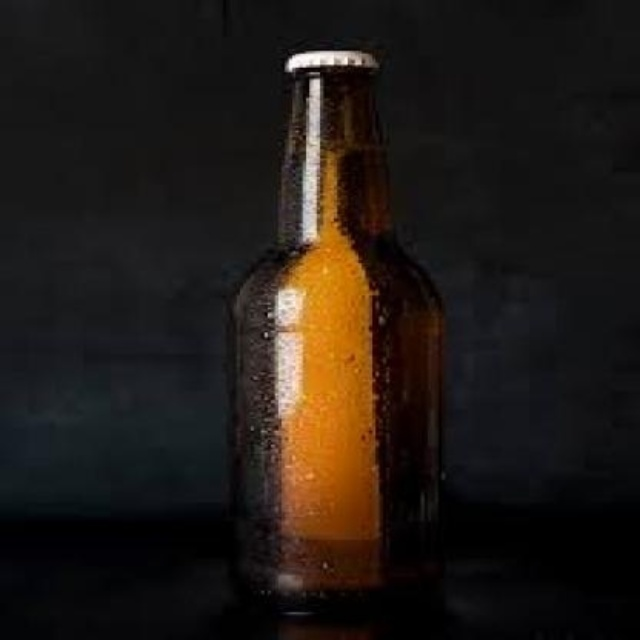trash: (229, 46, 442, 603)
